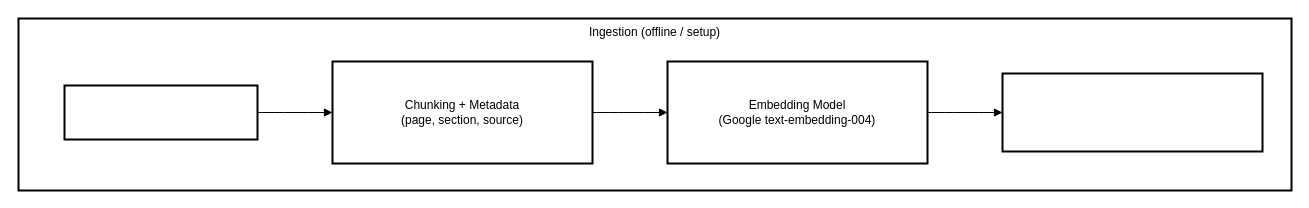
This 1309x208 diagram has some shape labels left out. The shapes that lost their labels are listed below. From the top down, each one's centre as x and y in pixels, then its label:
point 160,112: PDF Manual / Docs
point 1132,112: Document Vectors (768-dim)
